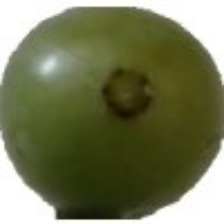grapes: (18, 53, 170, 197)
